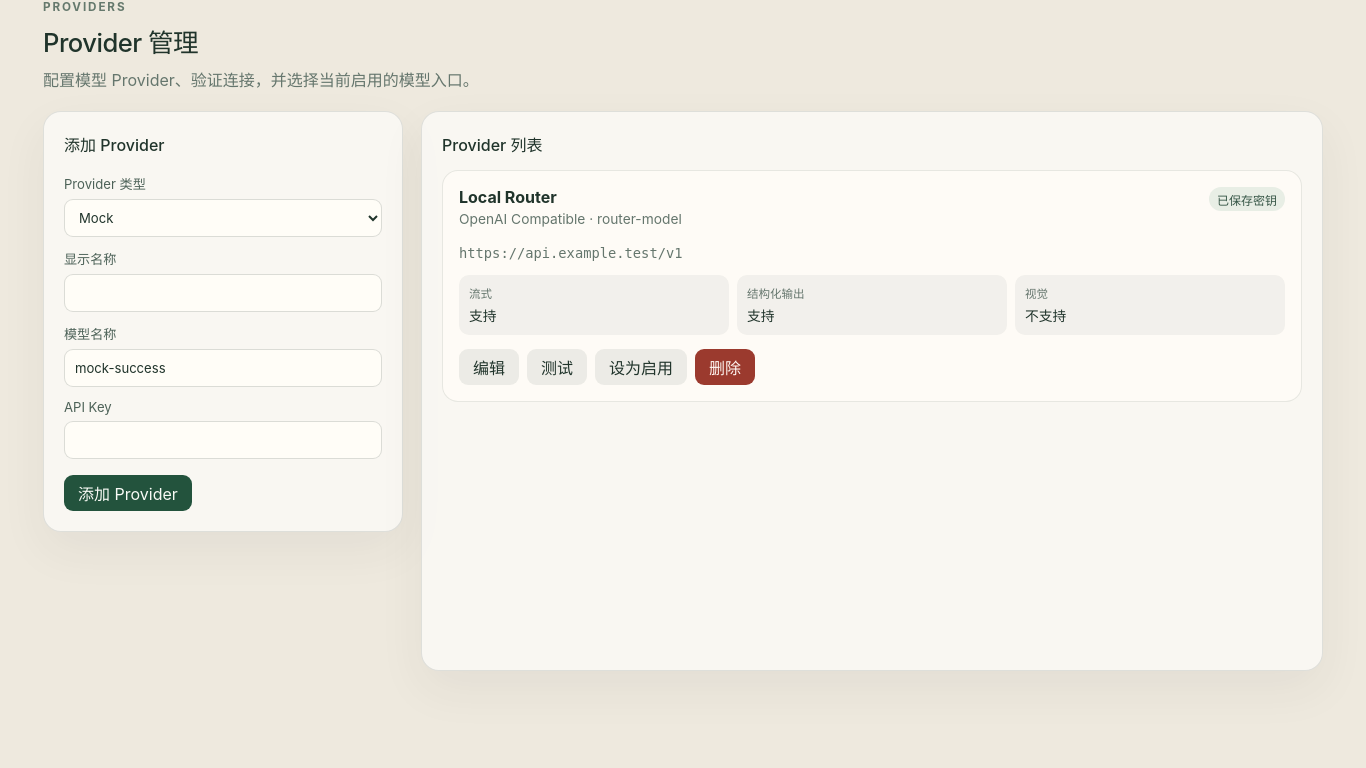
Scenario: ProviderManager › activates providers and deletes only after explicit confirmation
The width and height of the screenshot is (1366, 768).
expect the heading "Local Router" is shown: met, box left=459, top=187, right=557, bottom=207
What coordinates should you click on to do the following:
click the button with aria-label "设为启用 Local Router"
I would click on:
 (641, 367)
Its box is left=595, top=349, right=687, bottom=385.
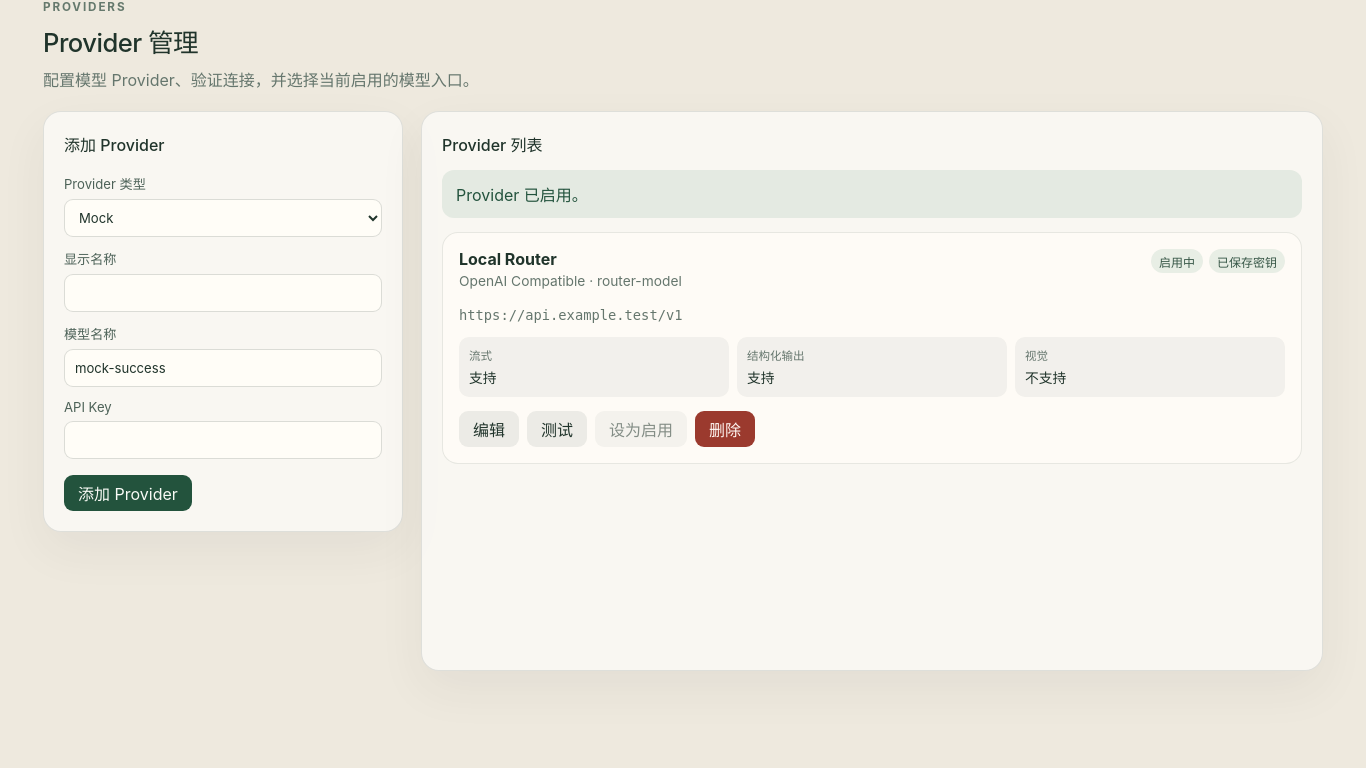
expect the text "Provider 已启用。" is shown: met, box left=442, top=170, right=1302, bottom=218
expect the text "启用中" is shown: met, box left=1151, top=249, right=1203, bottom=273
What coordinates should you click on to do the following:
click the button with aria-label "删除 Local Router"
I would click on:
 (725, 429)
Its box is left=695, top=411, right=755, bottom=447.
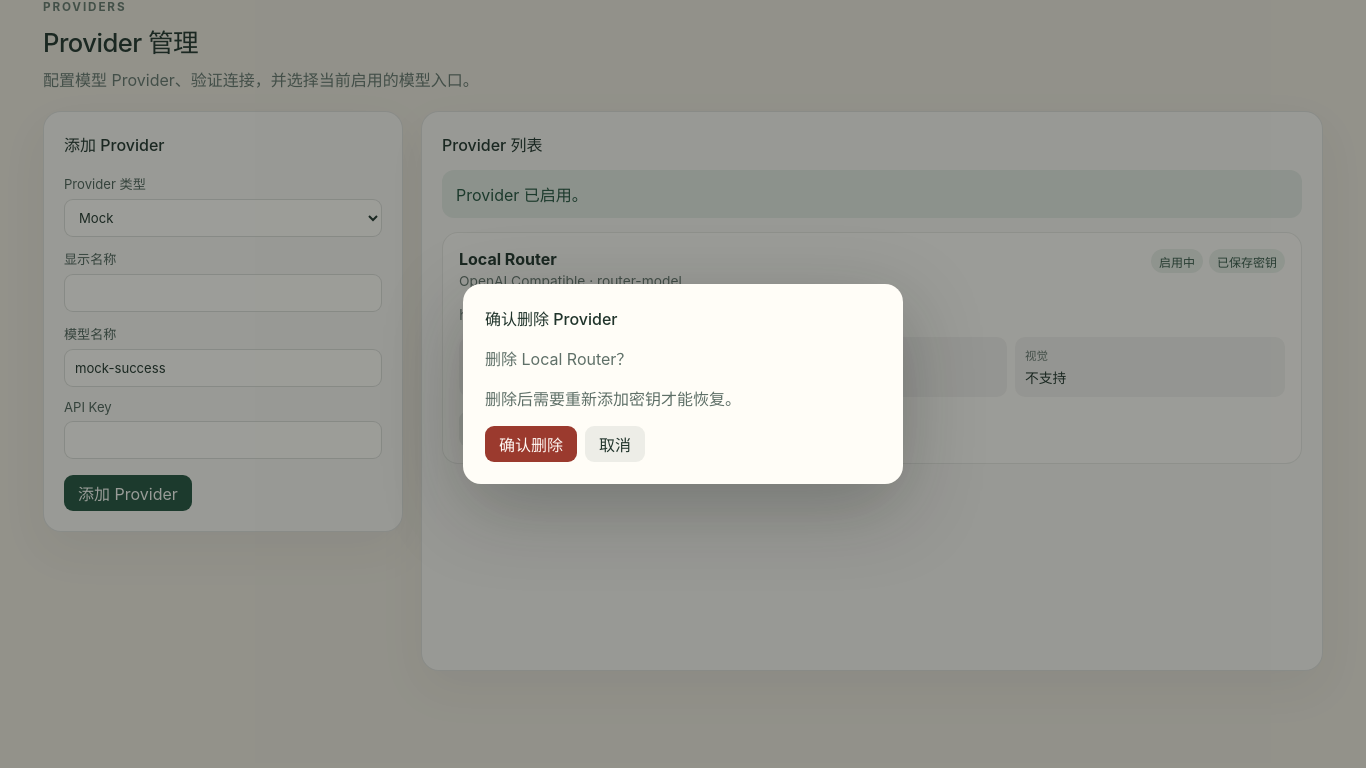
expect the text "删除后需要重新添加密钥才能恢复。" is shown: met, box left=485, top=389, right=741, bottom=409
What coordinates should you click on to do the following:
click the button "确认删除"
I would click on:
 (531, 444)
Its box is left=485, top=426, right=577, bottom=462.
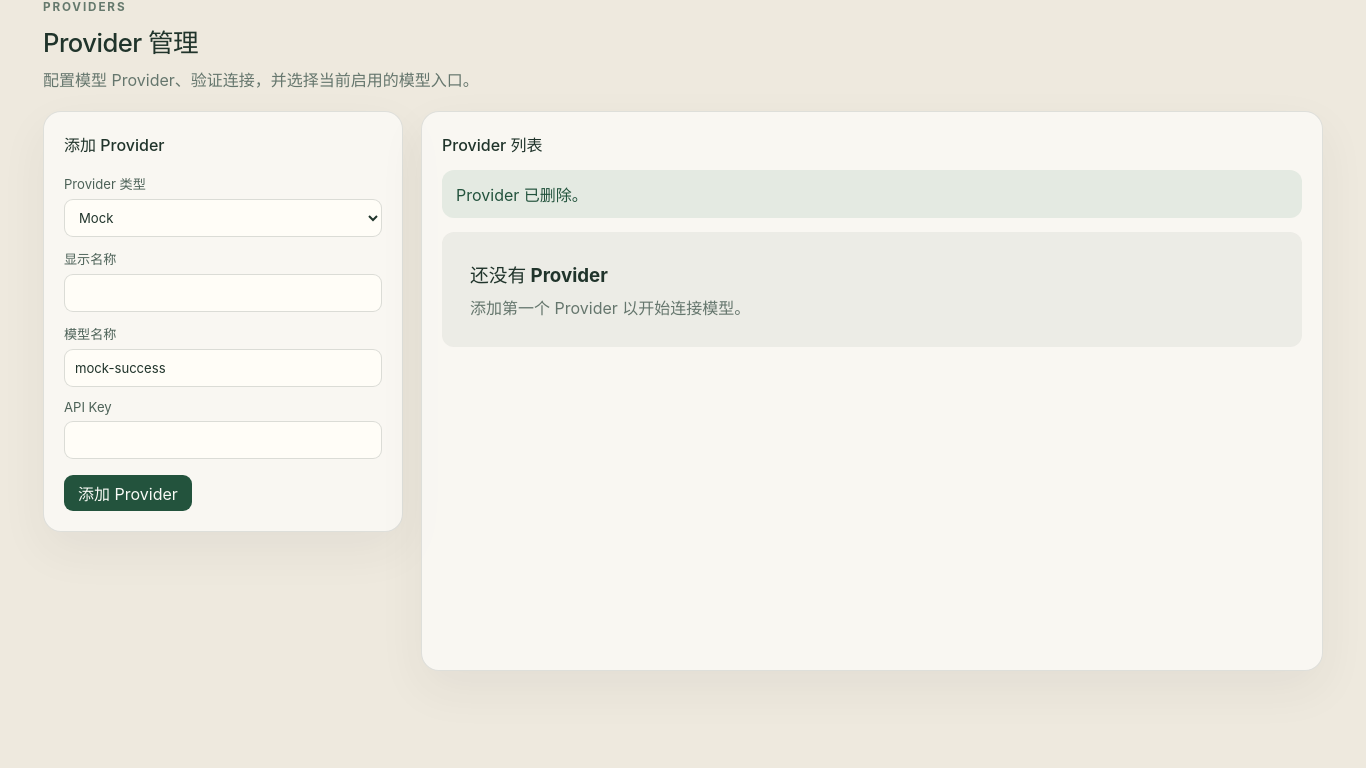
expect the text "Provider 已删除。" is shown: met, box left=442, top=170, right=1302, bottom=218
expect the heading "还没有 Provider" is shown: met, box left=470, top=264, right=608, bottom=287
